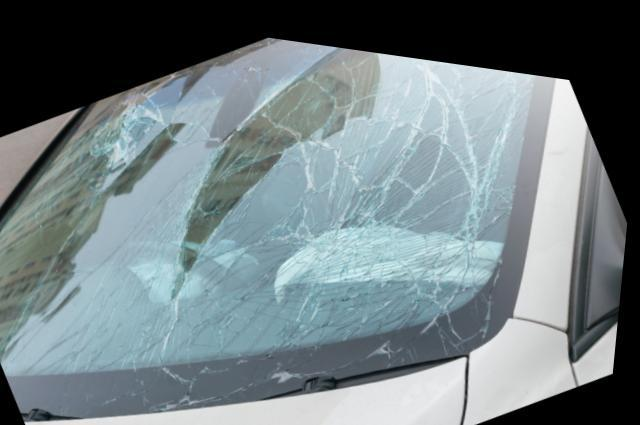glass shatter: (0, 30, 534, 415)
